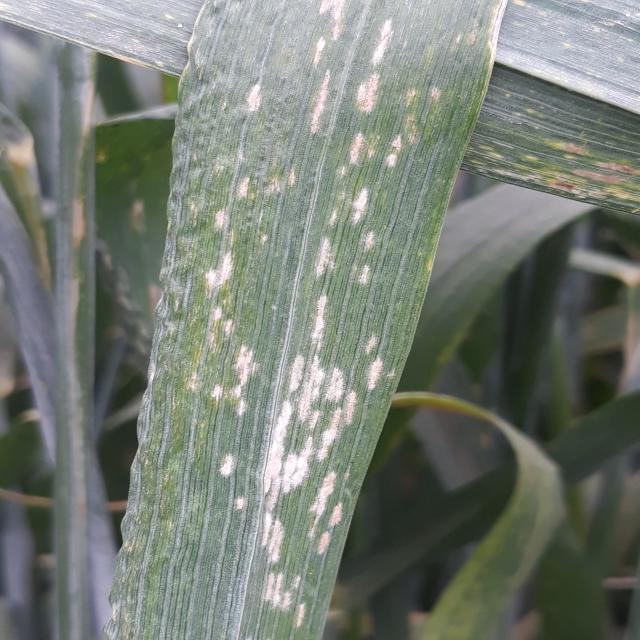powder_mildew: (108, 0, 500, 640), (479, 0, 638, 242)
